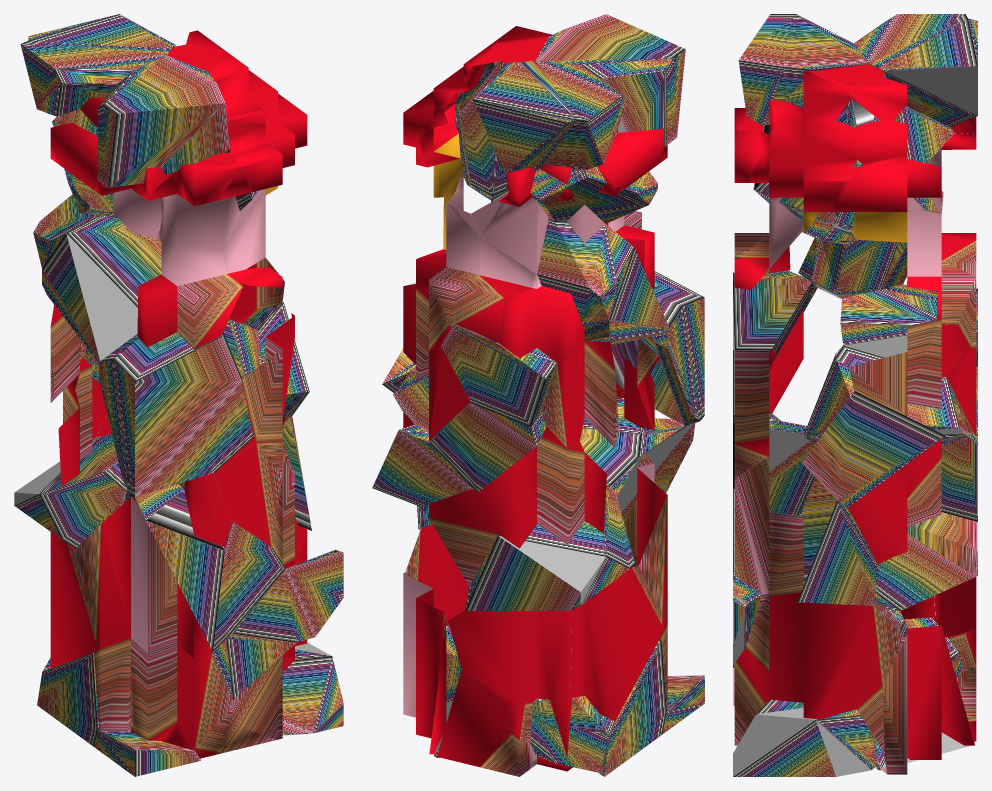
Rendered from destroyed.fbx.
3 renders of one model, left to right at view 1: azimuth 30°, elevation 25°; view 2: azimuth 150°, elevation 25°; view 3: azimuth 270°, elevation 25°, orthographic. The views are drawn at different scales.
Parts seen in each view (by area): view 1: lighthouse_cell.050, lighthouse_cell.077, lighthouse_cell.018, lighthouse_cell.083, lighthouse_cell.026, lighthouse_cell.006, lighthouse_cell.015, lighthouse_cell.085, lighthouse_cell.005, lighthouse_cell.002, lighthouse_cell.013, lighthouse_cell.052 (+29 smaller); view 2: lighthouse_cell.085, lighthouse_cell.077, lighthouse_cell.016, lighthouse_cell.004, lighthouse_cell.022, lighthouse_cell.050, lighthouse_cell.047, lighthouse_cell.023, lighthouse_cell.012, lighthouse_cell.005, lighthouse_cell.001, lighthouse_cell.009 (+35 smaller); view 3: lighthouse_cell.053, lighthouse_cell.013, lighthouse_cell.012, lighthouse_cell.065, lighthouse_cell.014, lighthouse_cell.077, lighthouse_cell.081, lighthouse_cell.085, lighthouse_cell.047, lighthouse_cell.067, lighthouse_cell.063, lighthouse_cell.055 (+34 smaller).
Part boxes in pixels (left/top/right/bottom): lighthouse_cell.050: left=98, top=332, right=253, bottom=497; lighthouse_cell.077: left=97, top=55, right=229, bottom=187; lighthouse_cell.018: left=74, top=496, right=212, bottom=659; lighthouse_cell.083: left=42, top=215, right=191, bottom=362; lighthouse_cell.026: left=94, top=638, right=233, bottom=748; lighthouse_cell.006: left=137, top=243, right=243, bottom=349; lighthouse_cell.015: left=135, top=484, right=226, bottom=651; lighthouse_cell.085: left=14, top=434, right=127, bottom=548; lighthouse_cell.005: left=20, top=41, right=170, bottom=116; lighthouse_cell.002: left=234, top=549, right=343, bottom=642; lighthouse_cell.013: left=209, top=52, right=307, bottom=191; lighthouse_cell.052: left=213, top=441, right=282, bottom=547; lighthouse_cell.085: left=465, top=483, right=634, bottom=610; lighthouse_cell.077: left=536, top=14, right=685, bottom=145; lighthouse_cell.016: left=448, top=610, right=572, bottom=705; lighthouse_cell.004: left=479, top=427, right=606, bottom=548; lighthouse_cell.022: left=570, top=565, right=662, bottom=720; lighthouse_cell.050: left=611, top=271, right=704, bottom=425; lighthouse_cell.047: left=473, top=62, right=576, bottom=174; lighthouse_cell.023: left=441, top=324, right=557, bottom=426; lighthouse_cell.012: left=403, top=573, right=446, bottom=754; lighthouse_cell.005: left=519, top=60, right=628, bottom=170; lighthouse_cell.001: left=542, top=341, right=618, bottom=448; lighthouse_cell.009: left=429, top=396, right=546, bottom=492; lighthouse_cell.053: left=745, top=592, right=903, bottom=719; lighthouse_cell.013: left=748, top=70, right=856, bottom=219; lighthouse_cell.012: left=880, top=625, right=974, bottom=774; lighthouse_cell.065: left=733, top=698, right=877, bottom=776; lighthouse_cell.014: left=802, top=391, right=945, bottom=507; lighthouse_cell.077: left=738, top=14, right=867, bottom=125; lighthouse_cell.081: left=734, top=457, right=803, bottom=596; lighthouse_cell.085: left=874, top=512, right=977, bottom=611; lighthouse_cell.047: left=879, top=18, right=977, bottom=126; lighthouse_cell.067: left=849, top=319, right=970, bottom=416; lighthouse_cell.063: left=833, top=155, right=941, bottom=242; lighthouse_cell.055: left=743, top=420, right=837, bottom=592.
Size of the model in its own units: 710 by 2110 by 710.
1 material, 1 textured.
